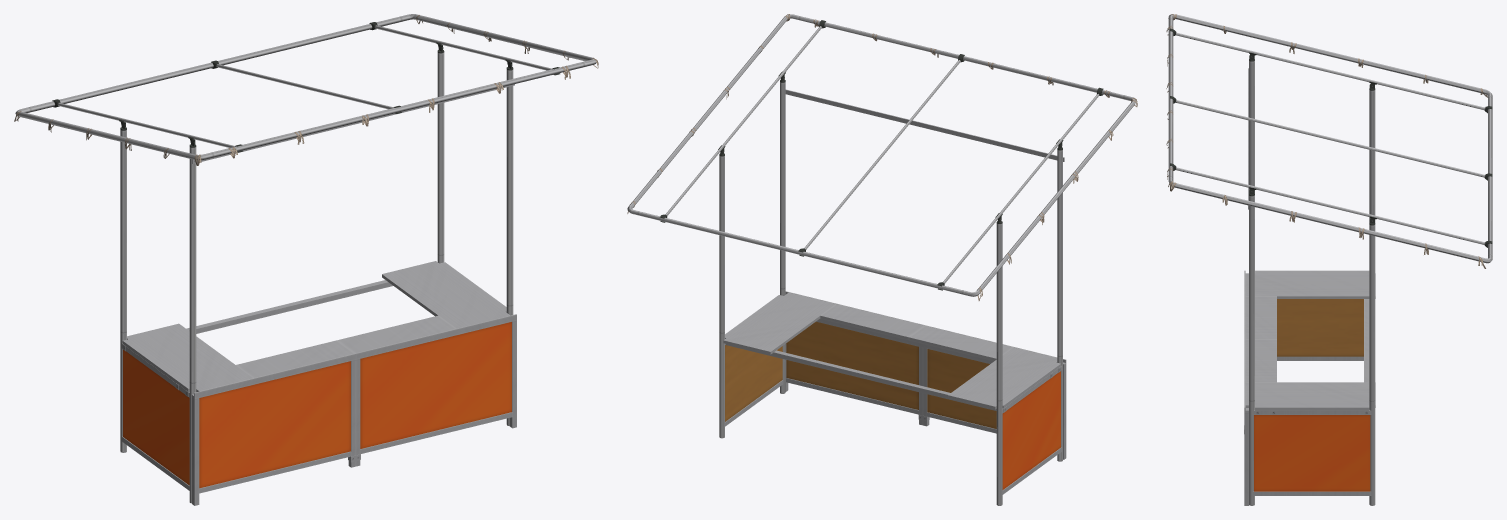
The model's file is jsf_4P_s02_c01_t03.fbx.
3 renders of one model, left to right at view 1: azimuth 30°, elevation 25°; view 2: azimuth 150°, elevation 25°; view 3: azimuth 270°, elevation 25°, orthographic. The views are drawn at different scales.
Visible parts, largest first — view 1: Base_s02_c01, Pillar4_s02, Table_4P_s02_t03, Rope_4P_s02; view 2: Base_s02_c01, Pillar4_s02, Table_4P_s02_t03, Rope_4P_s02; view 3: Base_s02_c01, Pillar4_s02, Table_4P_s02_t03, Rope_4P_s02.
Boxes of the visible parts, x1,y1,x2,y2 form: Base_s02_c01: (121,314,516,505); Pillar4_s02: (15,14,596,503); Table_4P_s02_t03: (122,261,509,396); Rope_4P_s02: (14,15,598,165); Base_s02_c01: (725,291,1066,494); Pillar4_s02: (627,14,1136,505); Table_4P_s02_t03: (723,292,1061,412); Rope_4P_s02: (627,14,1137,300); Base_s02_c01: (1244,270,1371,505); Pillar4_s02: (1168,14,1492,505); Table_4P_s02_t03: (1245,270,1375,414); Rope_4P_s02: (1166,14,1487,268).
Bounding box in the file's own units: 264 × 243 × 211.
